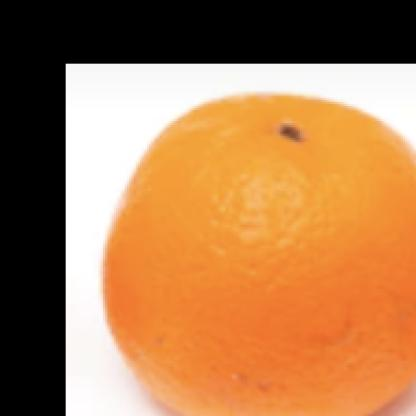fresh: (104, 94, 416, 416)
